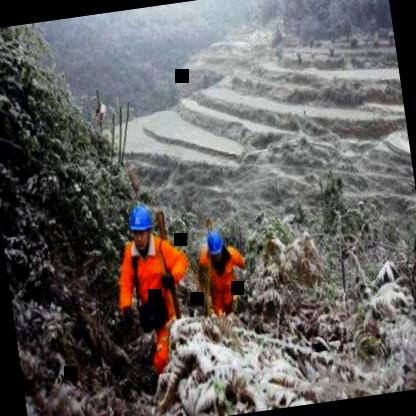helmet: (122, 199, 158, 249), (203, 228, 227, 264)
